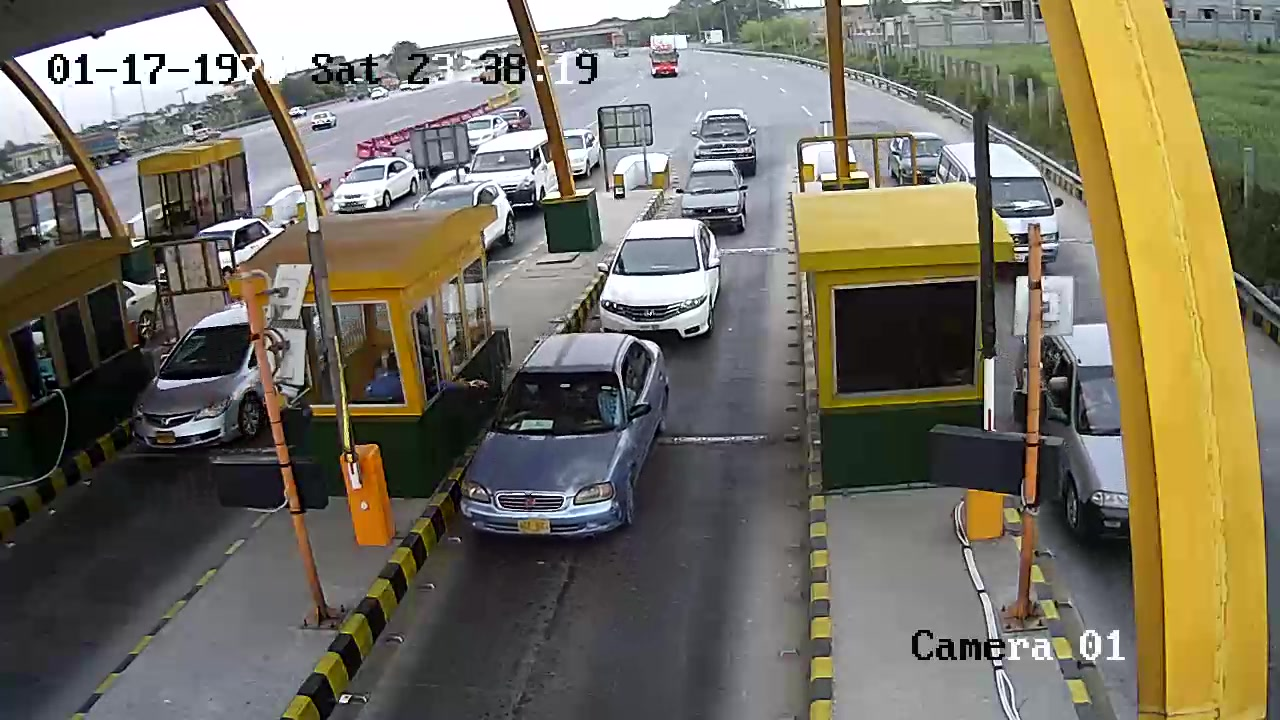F1: (438, 332, 692, 555), (593, 216, 737, 336)
